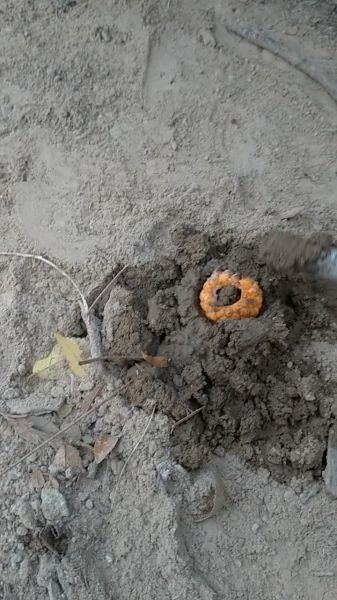eggs: (198, 266, 268, 325)
